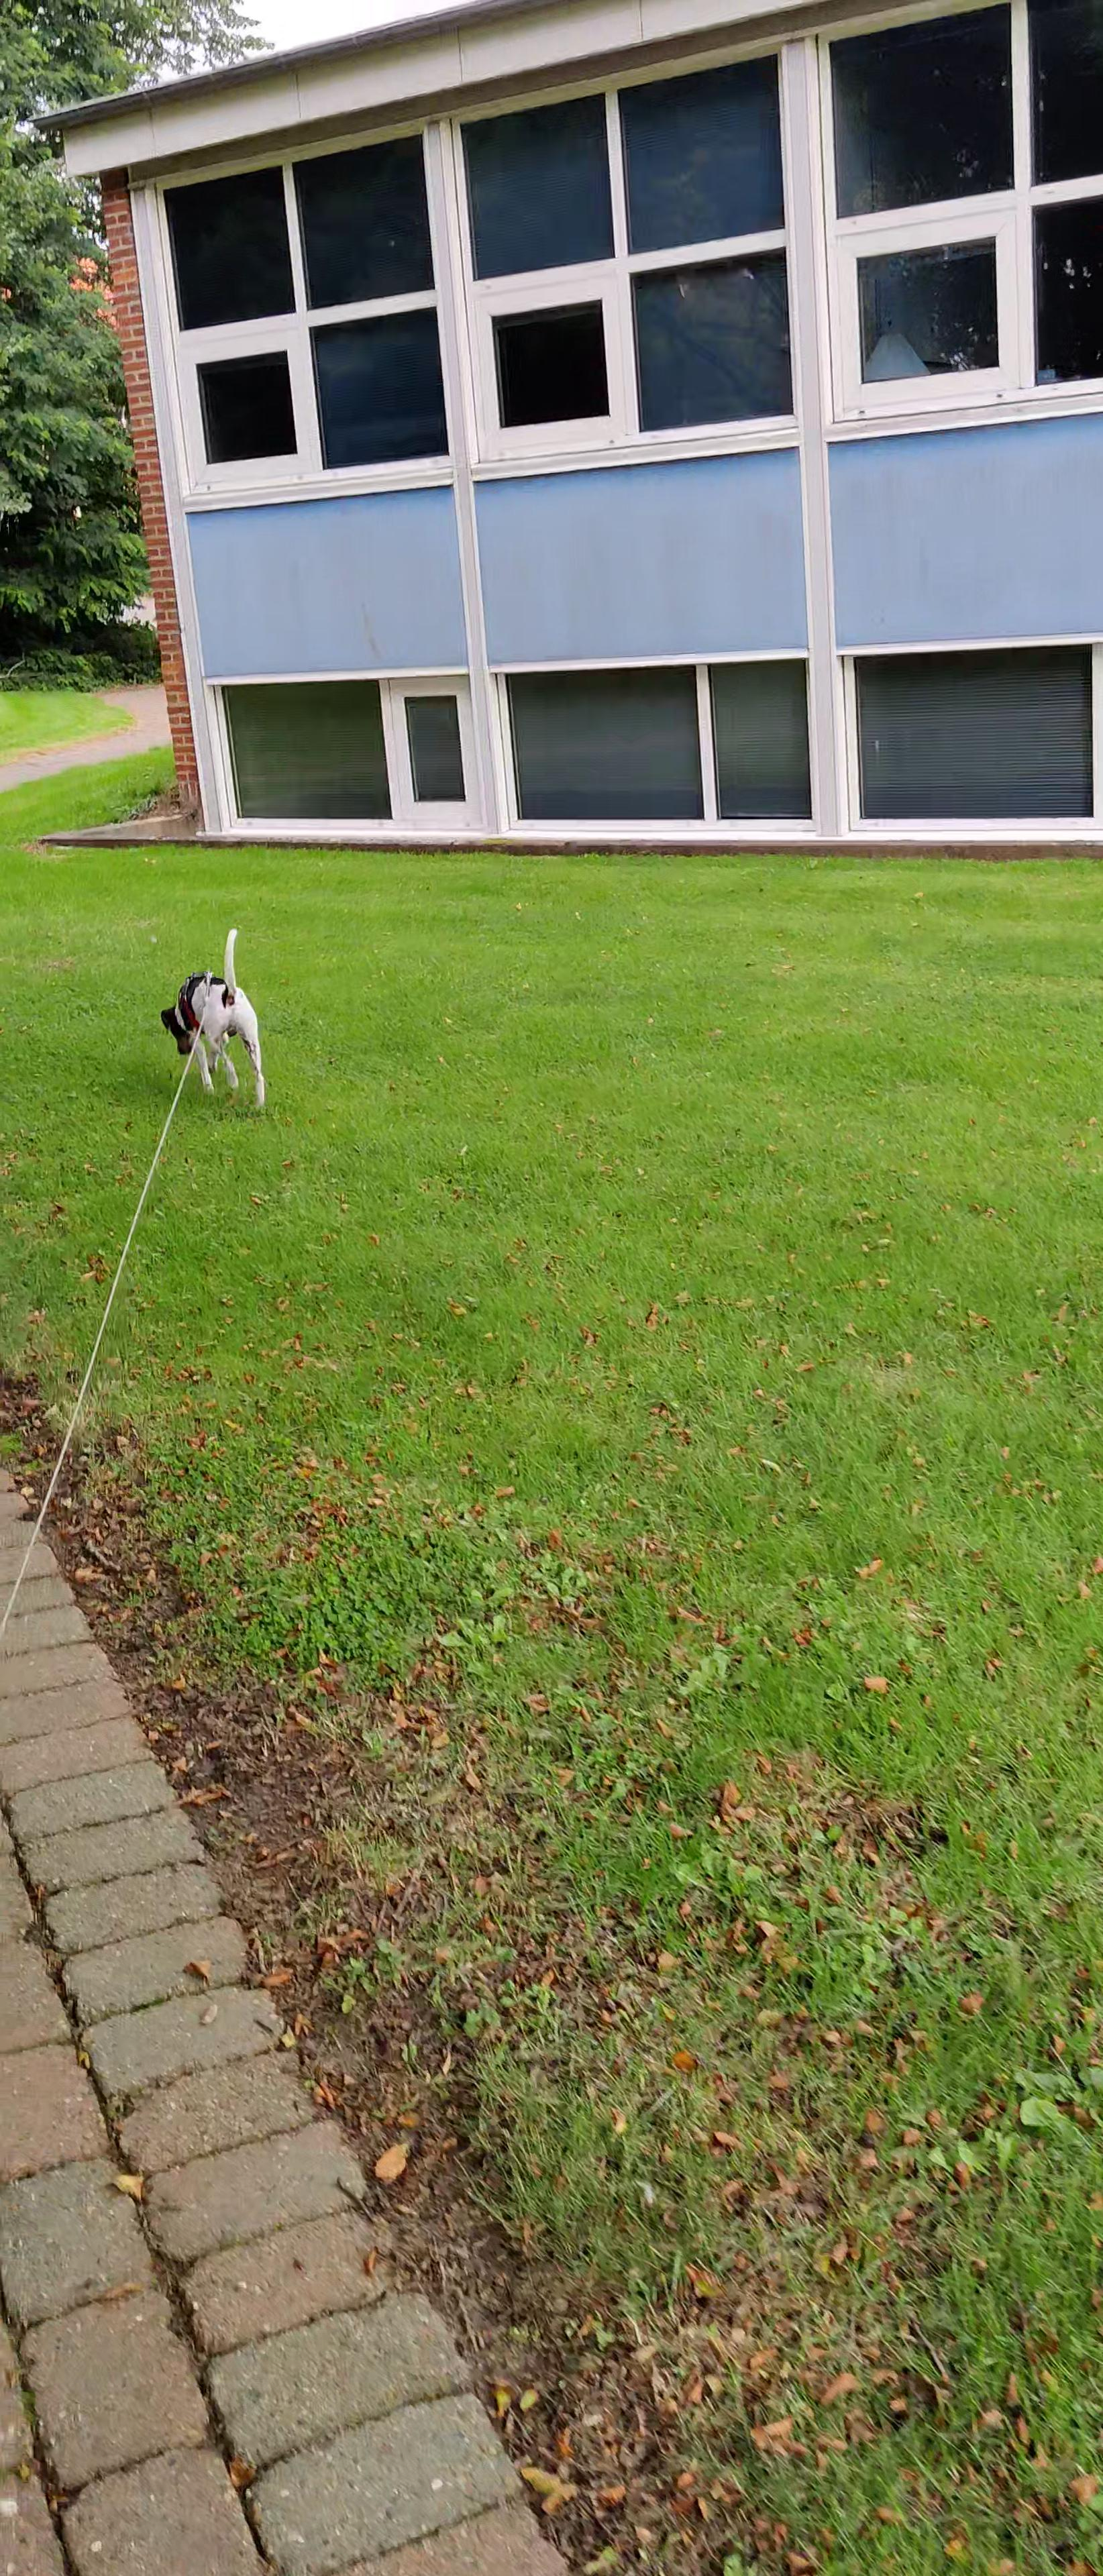Dog: (145, 912, 284, 1115)
